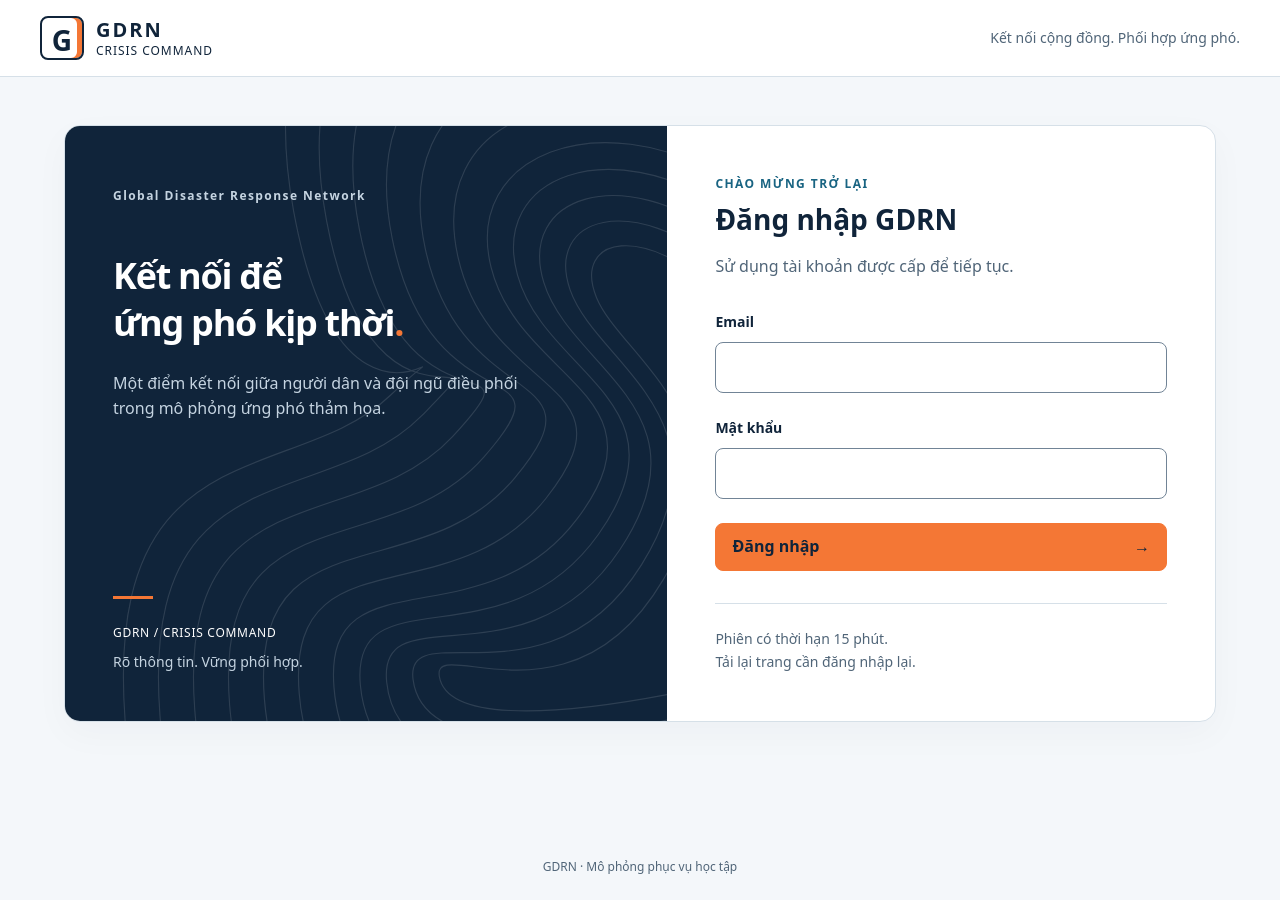
Test: Login › announces a pending login, prevents duplicate submit and recovers after a network error
The width and height of the screenshot is (1280, 900).
In the field labelled "Email": (941, 367) [715,342,1167,393], type "one@example.test"
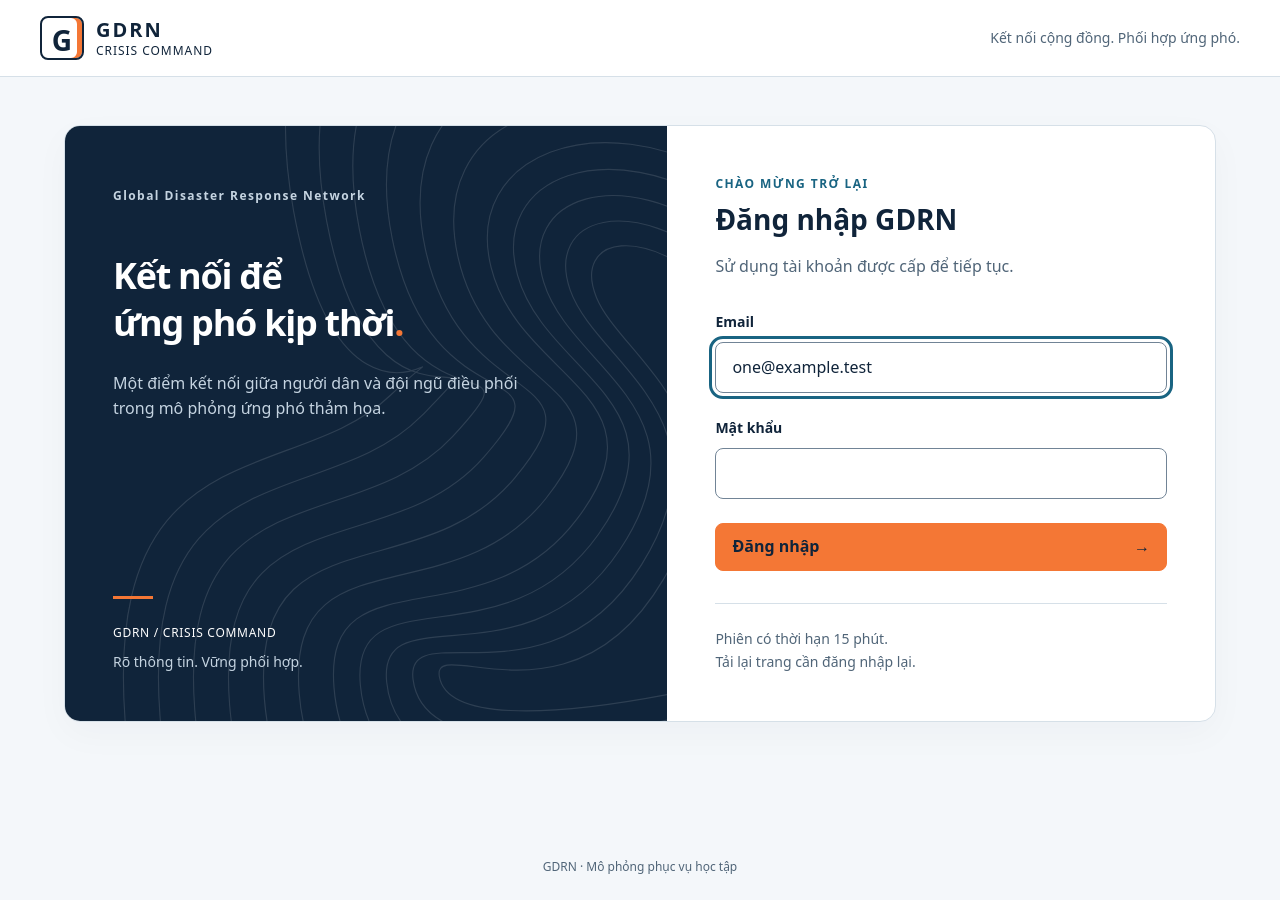
In the password field labelled "Mật khẩu": (941, 473) [715,448,1167,499], type "test-only-password"
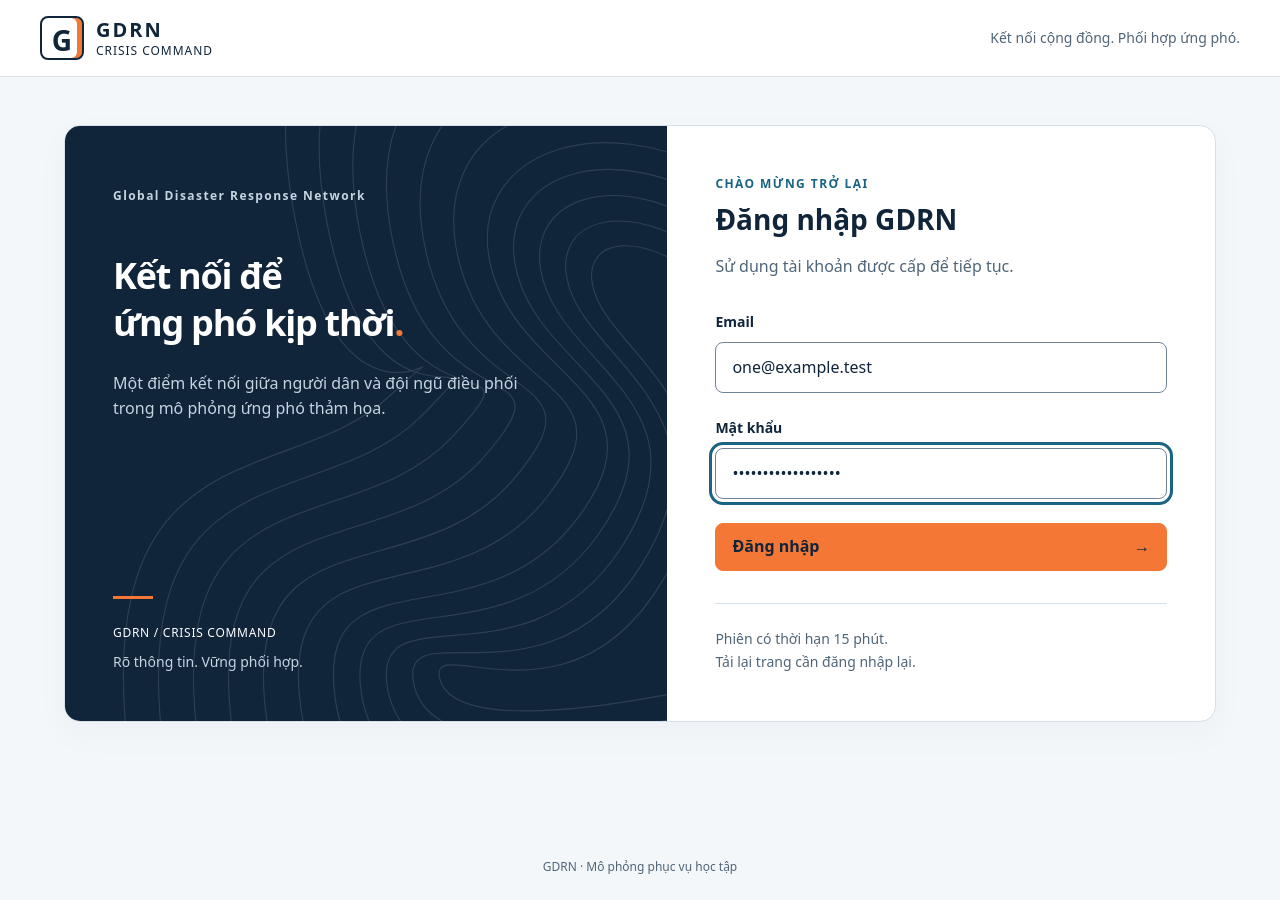
Click the button "Đăng nhập →": (776, 546) [715,523,1167,571]
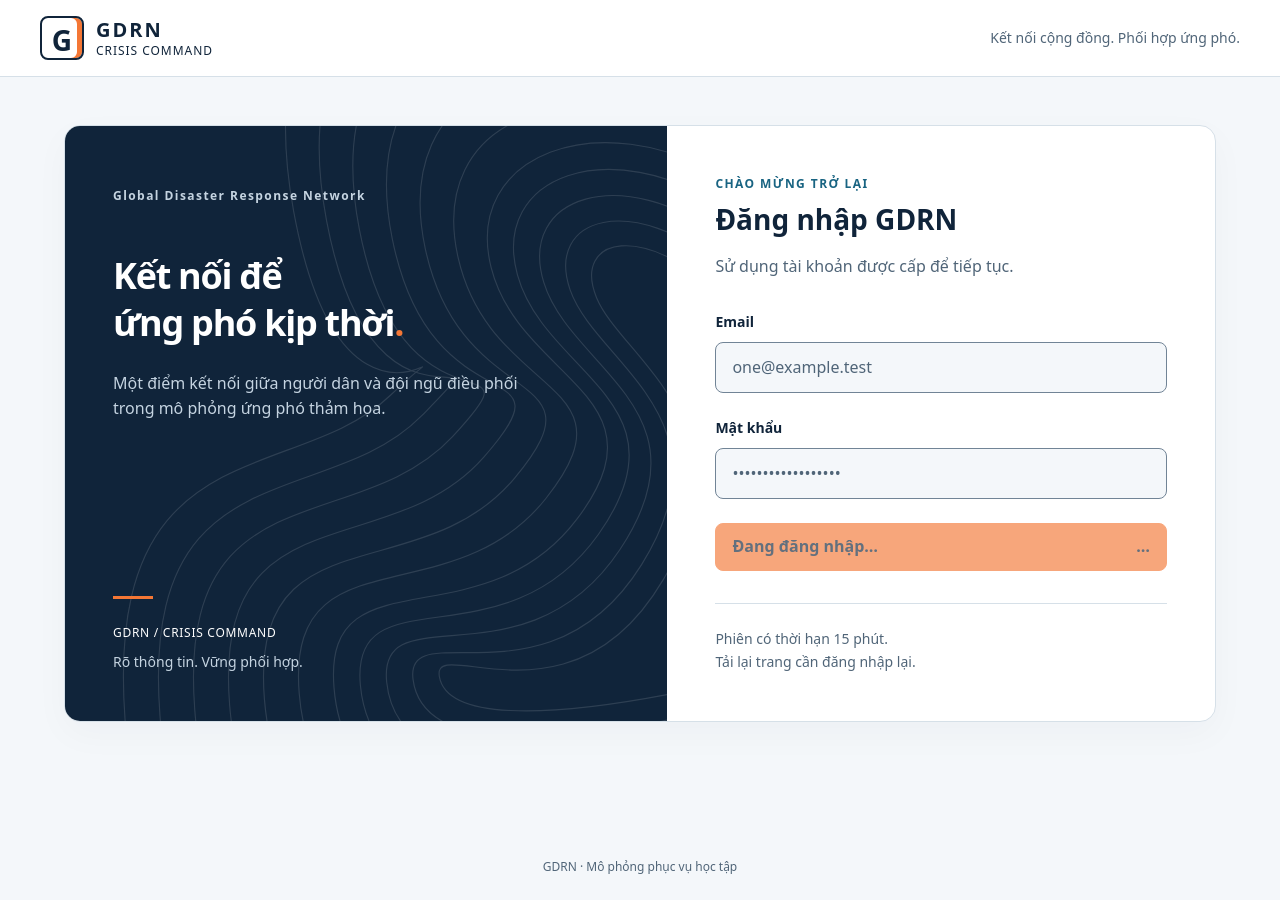
Check: the field labelled "Email" is disabled, box [715,342,1167,393]
Check: the password field labelled "Mật khẩu" is disabled, box [715,448,1167,499]
Check: the button "Đang đăng nhập… …" is disabled
Click the button "Đang đăng nhập… …": (805, 546) [715,523,1167,571]
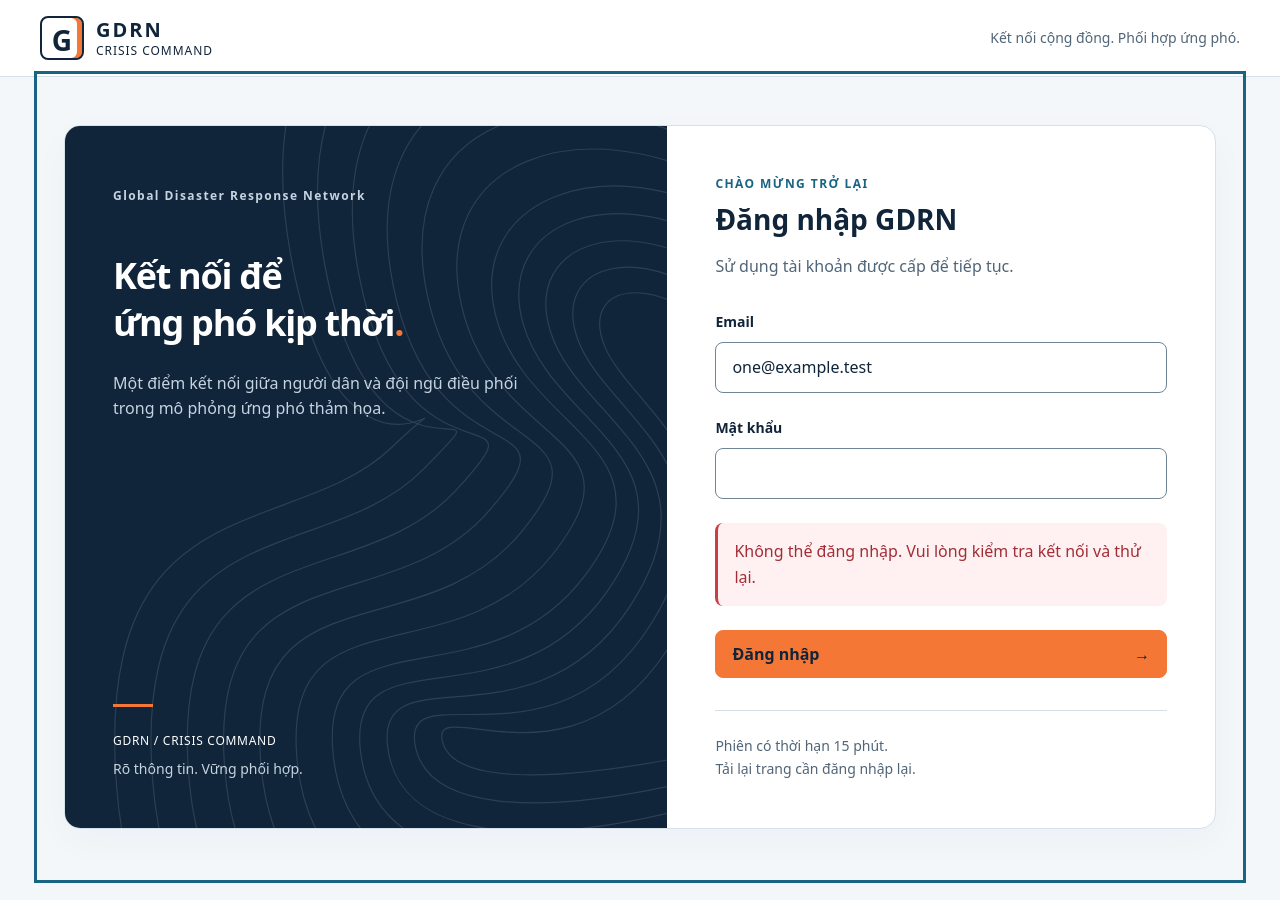
Check: the message shows "kiểm tra kết nối", box [734,540,1141,588]
Check: the button "Đăng nhập →" is enabled, box [715,630,1167,678]
Check: the password field labelled "Mật khẩu" is empty, box [715,448,1167,499]
